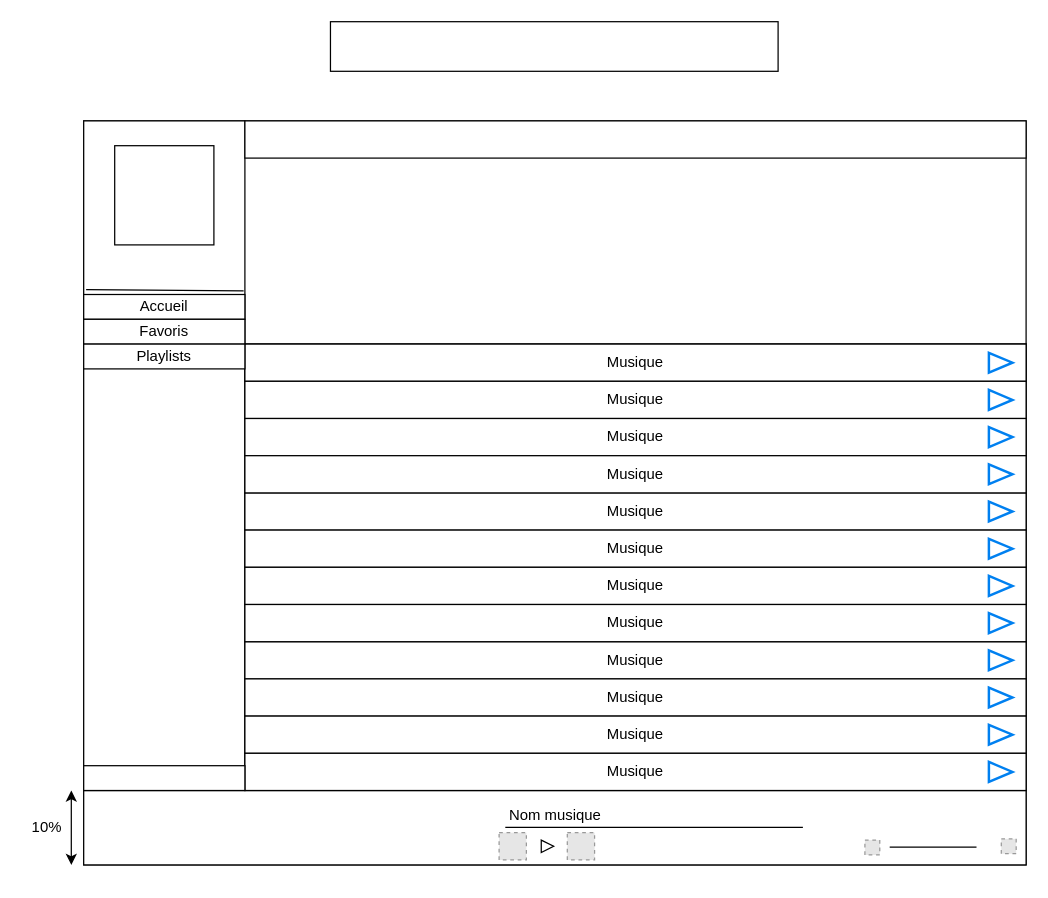
The diagram is 1048 pixels wide and 898 high, and some of its shapes have lost their labels. Grey dashed boxes stand in for pictures. The centre of each missing label's shape, as x and y in pixels:
"Barre de recherche" belongs at (635,139).
"Déconnexion" belongs at (163,777).
"logo site" belongs at (163,194).
"PC" belongs at (553,45).
